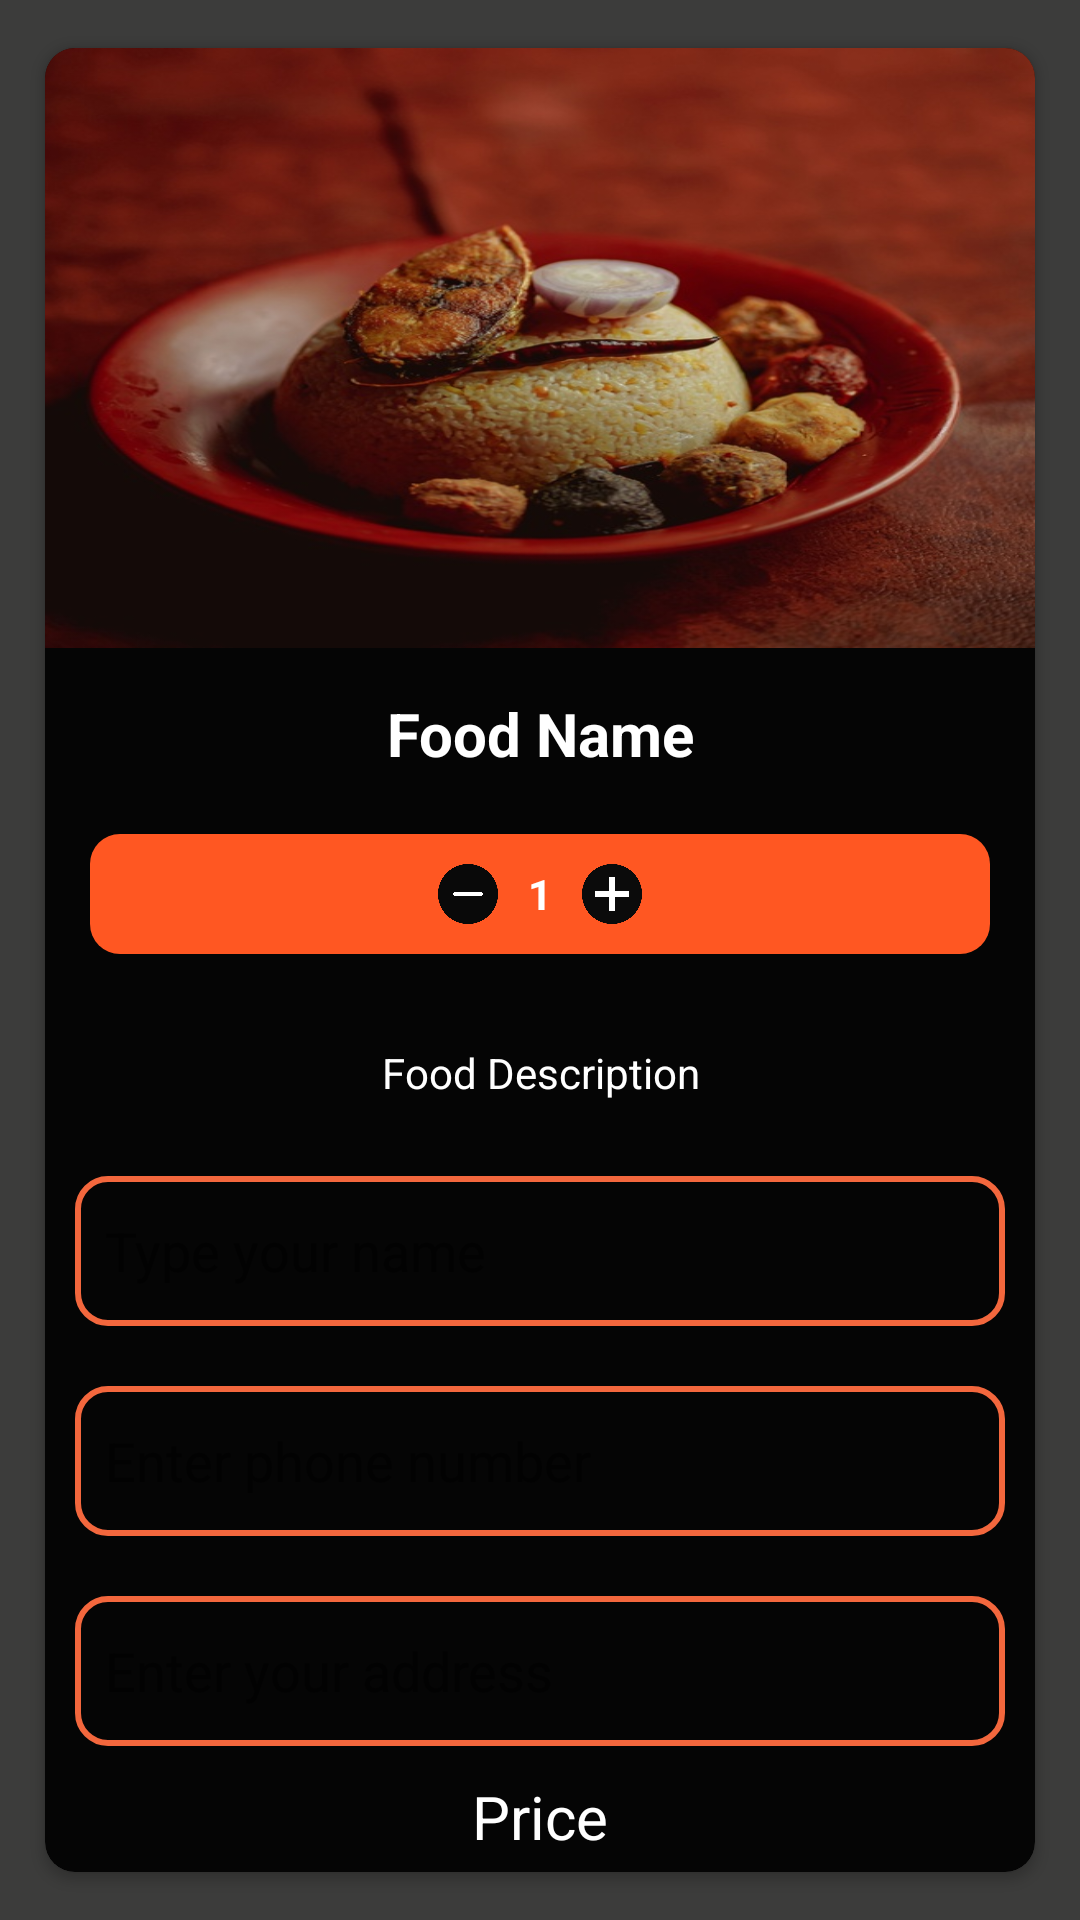

Screen size 1080x1920. Icon name, then its box in pixels as bbox=[x1, y1, x2, y2]:
minus: bbox=[438, 864, 498, 924]
plus: bbox=[582, 864, 642, 924]
